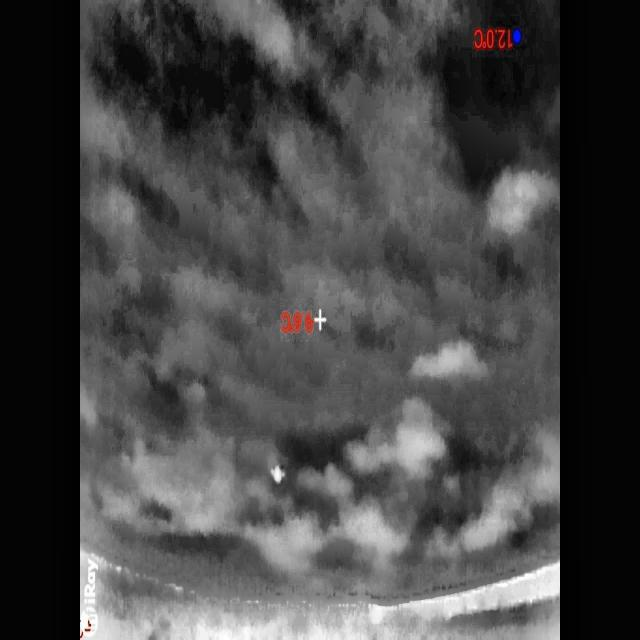drone: (269, 458, 287, 487)
